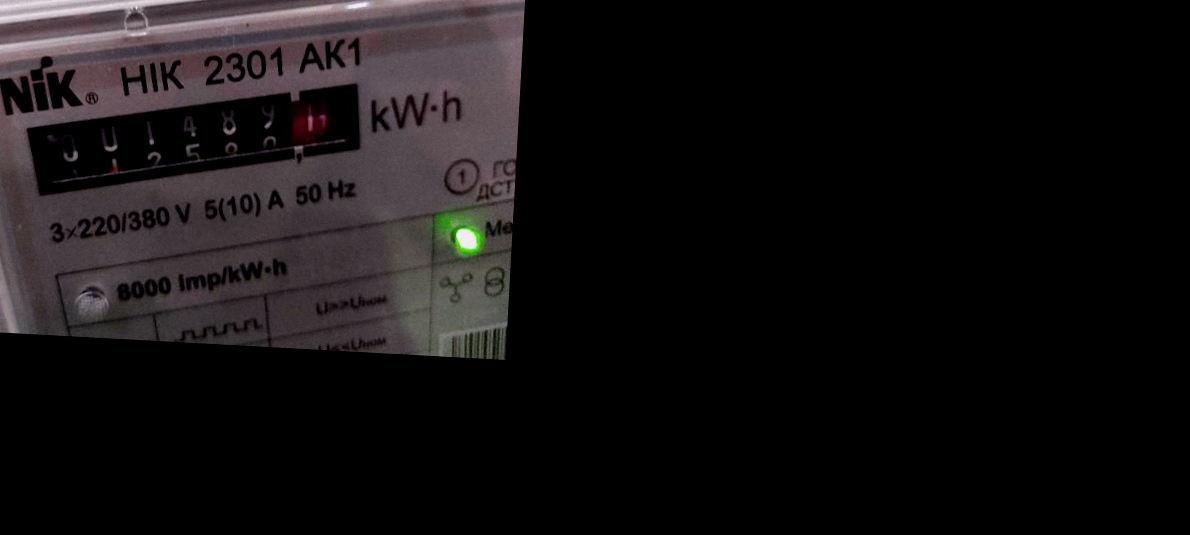0: (94, 117, 122, 154), (55, 128, 81, 165)
1: (298, 96, 319, 135), (138, 115, 160, 147)
4: (177, 107, 200, 139)
8: (217, 101, 240, 138)
9: (256, 97, 278, 130)
screen: (10, 54, 393, 225)
